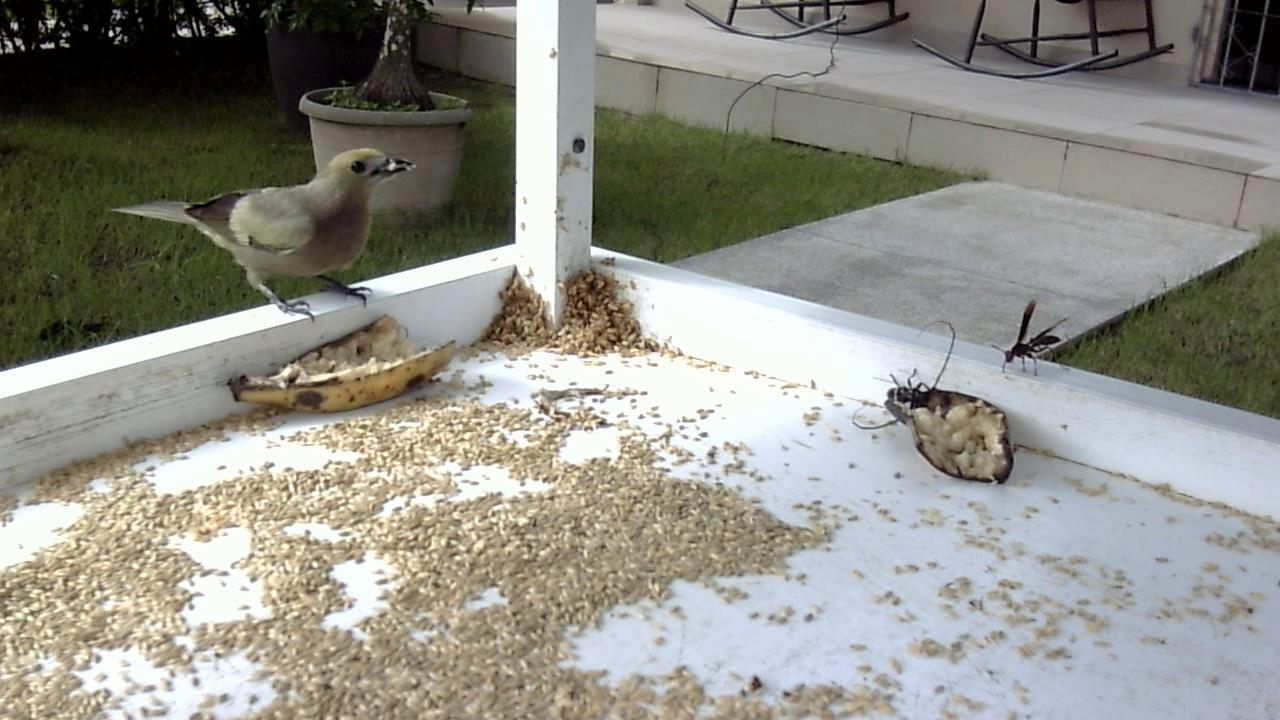sanhaco_do_coqueiro: (107, 144, 419, 332)
